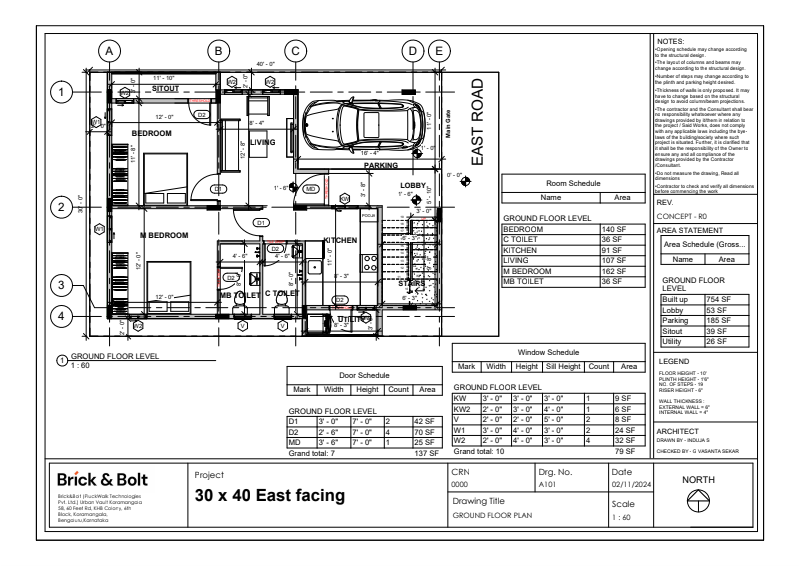door: (294, 173, 327, 207), (189, 172, 221, 203), (232, 206, 263, 238), (186, 96, 213, 127), (329, 304, 354, 335), (217, 264, 244, 291), (262, 242, 289, 268)
